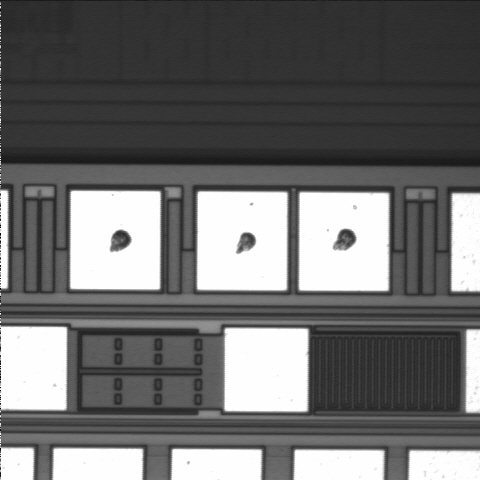pad: (299, 192, 389, 291), (70, 191, 160, 289), (197, 192, 287, 290), (225, 328, 308, 411)
